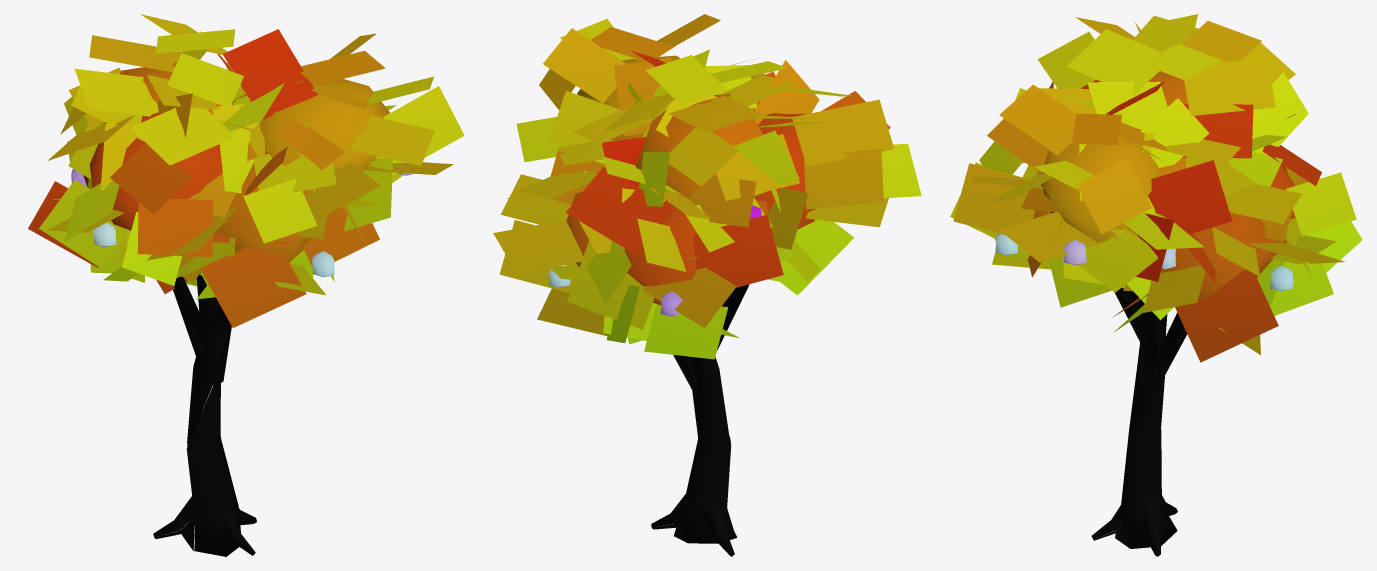
Rendered from tree_fruit_lod1.glb.
3 renders of one model, left to right at view 1: azimuth 30°, elevation 25°; view 2: azimuth 150°, elevation 25°; view 3: azimuth 270°, elevation 25°, orthographic. The views are drawn at different scales.
Parts seen in each view (by area): view 1: foliage_leaf_sprays, bark_branching_trunk, foliage_painted_crown, fruit_warm_accents; view 2: foliage_leaf_sprays, bark_branching_trunk, foliage_painted_crown, fruit_warm_accents; view 3: foliage_leaf_sprays, bark_branching_trunk, foliage_painted_crown, fruit_warm_accents.
Boxes of the visible parts, x1,y1,x2,y2 form: foliage_leaf_sprays: (28,14,464,327); bark_branching_trunk: (153,272,256,556); foliage_painted_crown: (83,62,389,262); fruit_warm_accents: (71,169,414,277); foliage_leaf_sprays: (493,14,921,359); bark_branching_trunk: (651,284,749,556); foliage_painted_crown: (566,55,816,305); fruit_warm_accents: (549,205,761,316); foliage_leaf_sprays: (950,14,1362,362); bark_branching_trunk: (1091,287,1187,556); foliage_painted_crown: (1033,71,1295,299); fruit_warm_accents: (995,233,1293,290).
Size of the model in its own units: 3.56 by 4.28 by 3.31.
